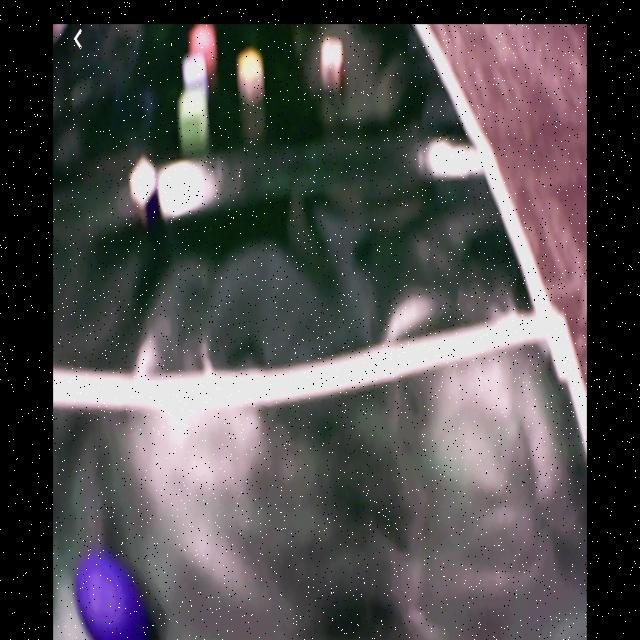ball: (71, 551, 146, 640)
